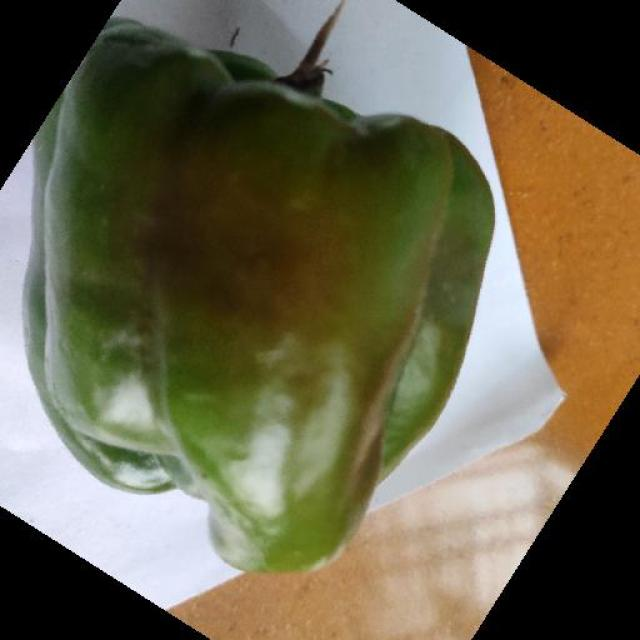Stale_Capsicum: (53, 13, 460, 555)
